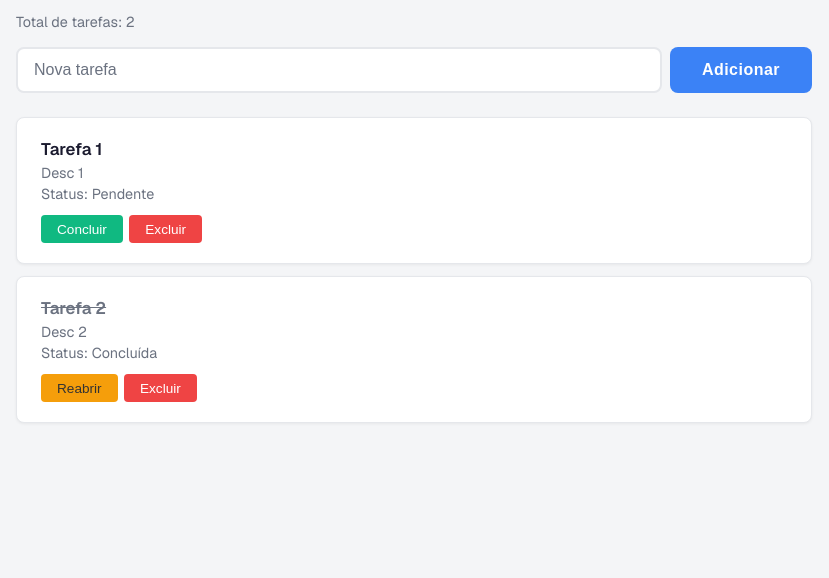
Scenario: ListaDeTarefas › adiciona uma nova tarefa
Type "Tarefa 3" into the field with placeholder "Nova tarefa".
click(339, 70); type("Tarefa 3")  # box left=16, top=47, right=662, bottom=93
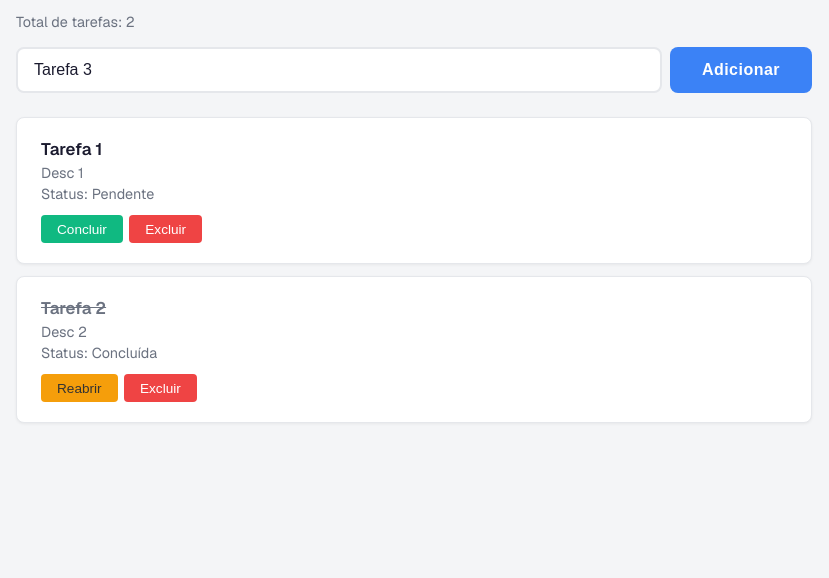
Click the button "Adicionar".
click(741, 70)  # box left=670, top=47, right=812, bottom=93
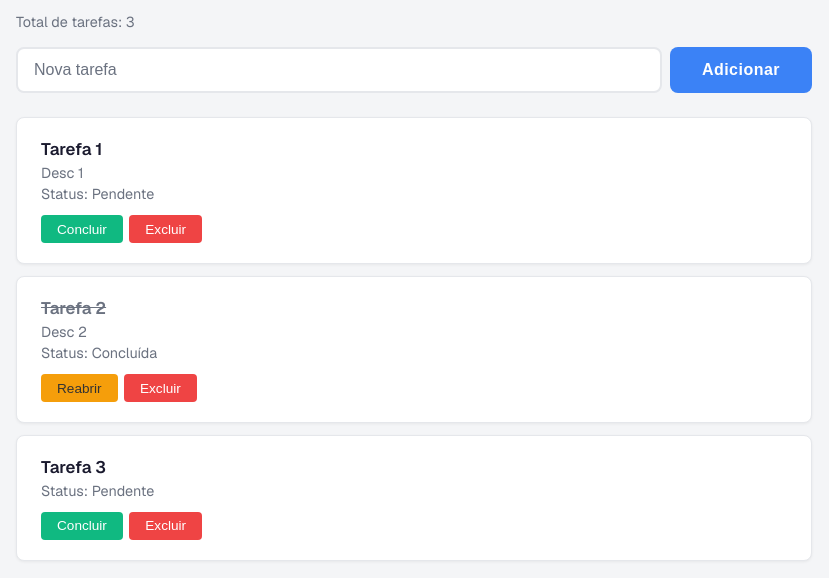
Now the heading "Tarefa 3" is shown, box left=41, top=456, right=106, bottom=478
